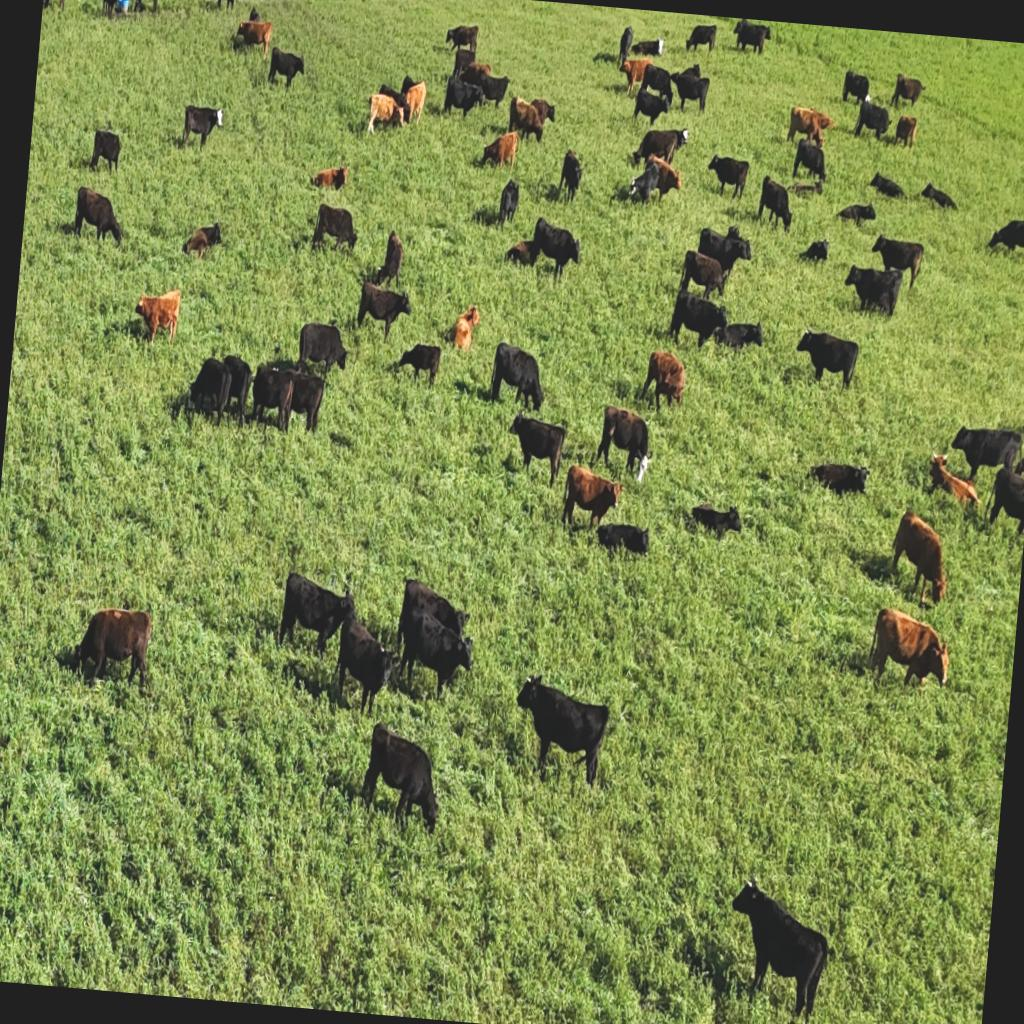cow: (722, 875, 838, 1024), (510, 672, 612, 790), (358, 722, 446, 836), (328, 600, 404, 720), (396, 602, 480, 703), (867, 604, 953, 694), (230, 0, 310, 95), (70, 604, 152, 694), (277, 570, 356, 658), (886, 508, 954, 607), (398, 577, 474, 644), (948, 422, 1024, 486), (504, 412, 566, 486), (560, 462, 622, 534), (592, 404, 652, 478), (792, 327, 860, 391), (488, 340, 548, 412), (274, 365, 330, 436), (184, 353, 236, 429), (528, 216, 584, 284), (355, 280, 413, 344), (247, 362, 298, 434), (841, 262, 904, 319), (924, 453, 982, 513), (984, 451, 1024, 537), (694, 223, 752, 281), (673, 293, 729, 353), (72, 186, 126, 248), (131, 284, 181, 348), (869, 234, 925, 290), (296, 319, 350, 377), (640, 350, 687, 412), (678, 248, 729, 305), (806, 458, 870, 500), (632, 124, 686, 172), (392, 340, 442, 388), (311, 203, 358, 254), (638, 154, 684, 206), (508, 94, 554, 145), (688, 499, 742, 540), (787, 103, 836, 148), (756, 176, 794, 233), (180, 103, 224, 152), (668, 65, 710, 115), (704, 154, 749, 200), (442, 74, 485, 122), (594, 520, 648, 558), (374, 228, 406, 290), (712, 318, 764, 355), (182, 218, 224, 262), (446, 302, 482, 352), (88, 122, 122, 174), (366, 92, 406, 136), (792, 134, 828, 182), (852, 98, 891, 142), (480, 128, 518, 172), (990, 214, 1024, 261), (633, 86, 671, 128), (472, 70, 510, 112), (618, 55, 654, 99), (234, 18, 272, 58), (637, 62, 675, 102), (557, 148, 584, 204), (732, 18, 770, 56), (397, 76, 427, 124), (891, 72, 925, 111), (919, 180, 959, 212), (444, 22, 479, 57), (868, 170, 908, 200), (497, 176, 520, 228), (308, 160, 346, 191), (836, 200, 876, 228), (684, 22, 717, 54), (504, 236, 537, 268), (796, 235, 830, 265), (842, 68, 870, 104), (451, 47, 478, 84), (629, 34, 664, 59), (894, 114, 918, 149), (617, 23, 634, 67), (460, 59, 492, 82), (376, 83, 408, 105), (677, 62, 707, 82), (400, 73, 419, 98), (731, 19, 747, 47), (99, 0, 122, 19), (538, 99, 556, 123), (126, 0, 162, 11), (42, 0, 67, 14), (213, 0, 237, 12), (248, 6, 260, 22)
